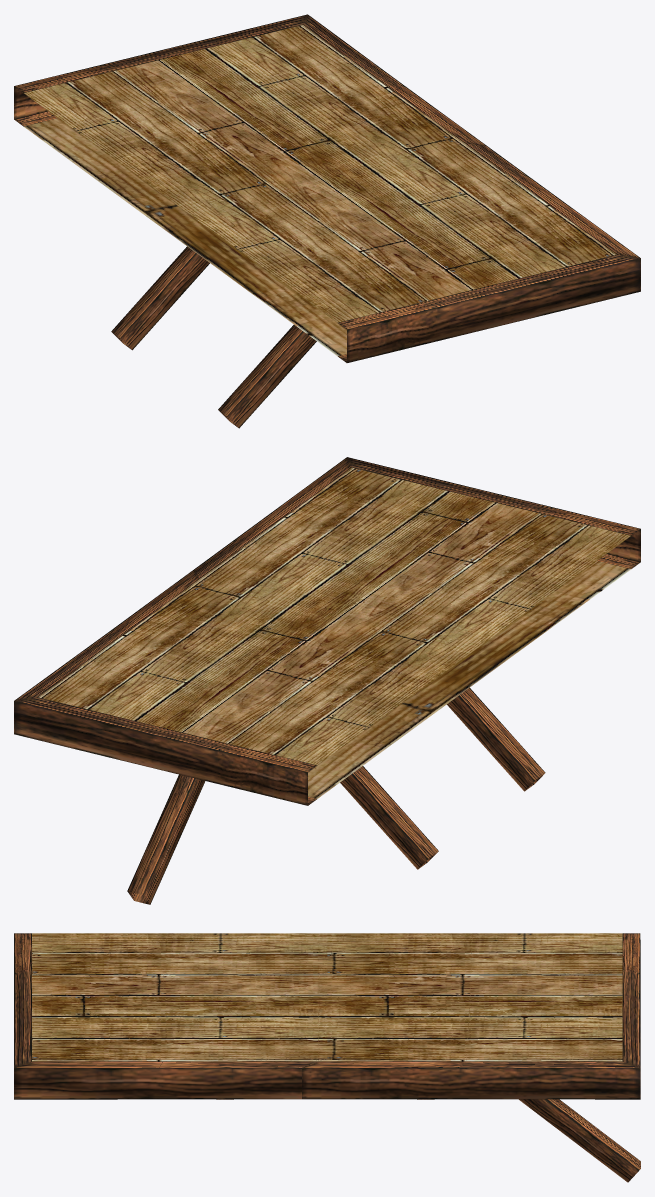
The model's file is LAKETOWN_WAREHOUSE2_PS_WH2_PLAT46352__GX.fbx.
The picture shows the model from 3 angles, top to bottom: view 1: azimuth 30°, elevation 25°; view 2: azimuth 150°, elevation 25°; view 3: azimuth 270°, elevation 25°; orthographic projection. The views are drawn at different scales.
Visible parts, largest first — view 1: LAKETOWN_WAREHOUSE2_PS_WH2_PLAT46352__GX; view 2: LAKETOWN_WAREHOUSE2_PS_WH2_PLAT46352__GX; view 3: LAKETOWN_WAREHOUSE2_PS_WH2_PLAT46352__GX.
Boxes of the visible parts, left/top/right/bottom form: LAKETOWN_WAREHOUSE2_PS_WH2_PLAT46352__GX: left=14, top=14, right=640, bottom=428; LAKETOWN_WAREHOUSE2_PS_WH2_PLAT46352__GX: left=14, top=457, right=640, bottom=904; LAKETOWN_WAREHOUSE2_PS_WH2_PLAT46352__GX: left=14, top=933, right=640, bottom=1182.
Bounding box in the file's own units: 32827 × 18167 × 61903.
2 materials, 2 textured.
